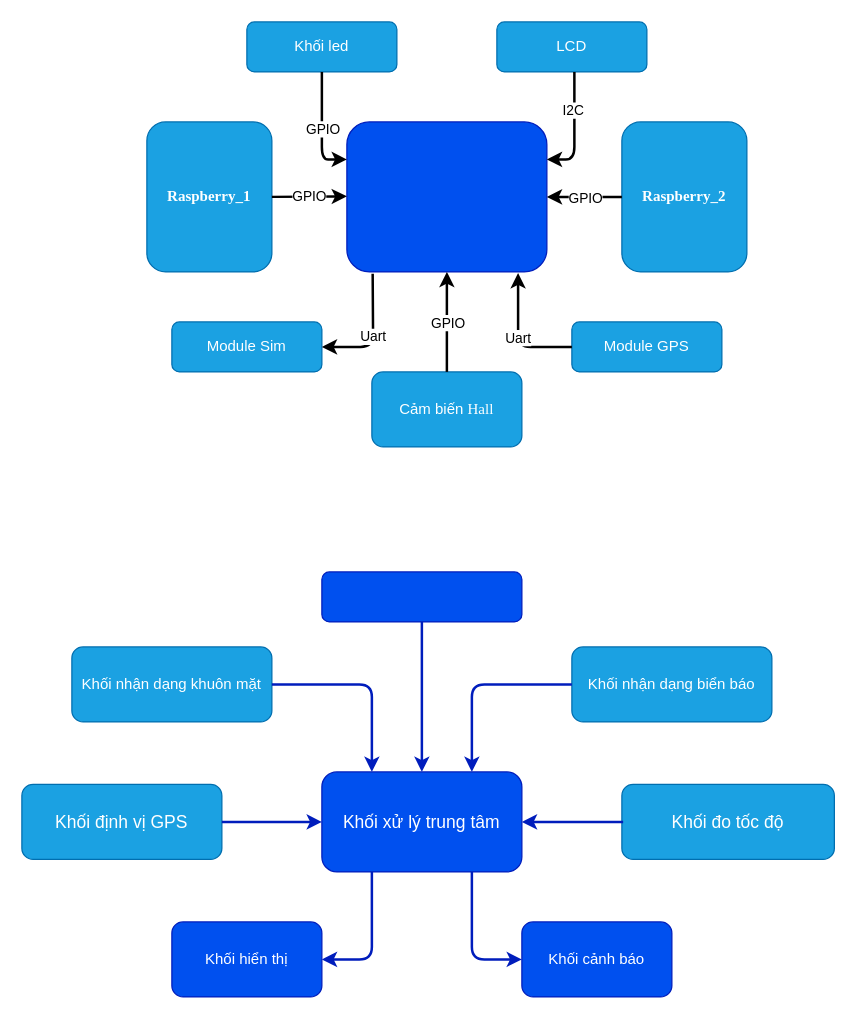
This 856x1019 diagram has some shape labels left out. The centre of each missing label's shape, as x and y in pixels:
"Nguồn Pin" goes at point (421, 596).
"STM32F103C8T6" goes at point (446, 196).
